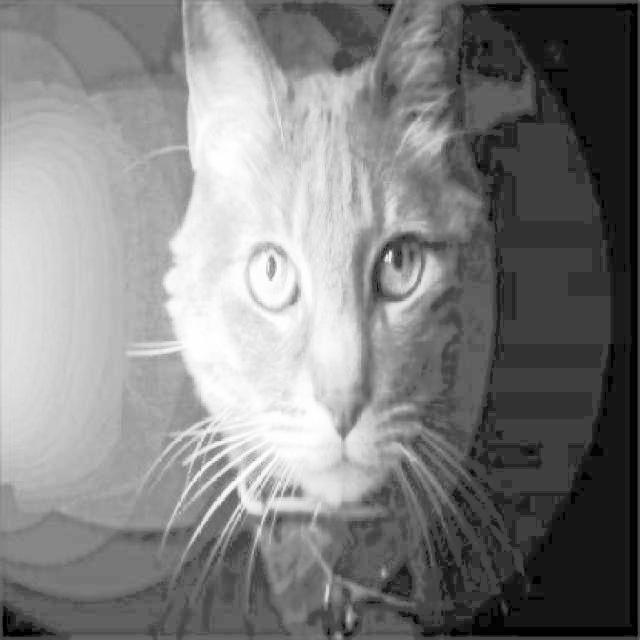Cat: (133, 0, 522, 577)
